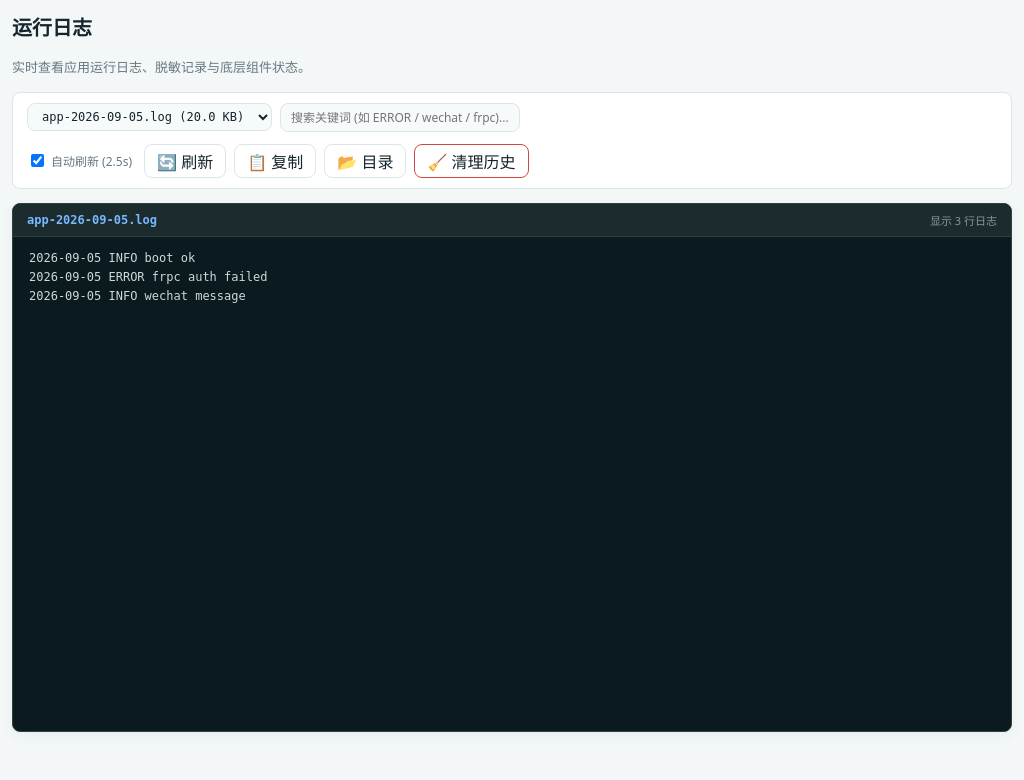
Test: LogsView › 搜索过滤大小写不敏感，计数联动
The width and height of the screenshot is (1024, 780).
Type "error" into the field with class "input-search" at (400, 117), box [280,103,520,132]
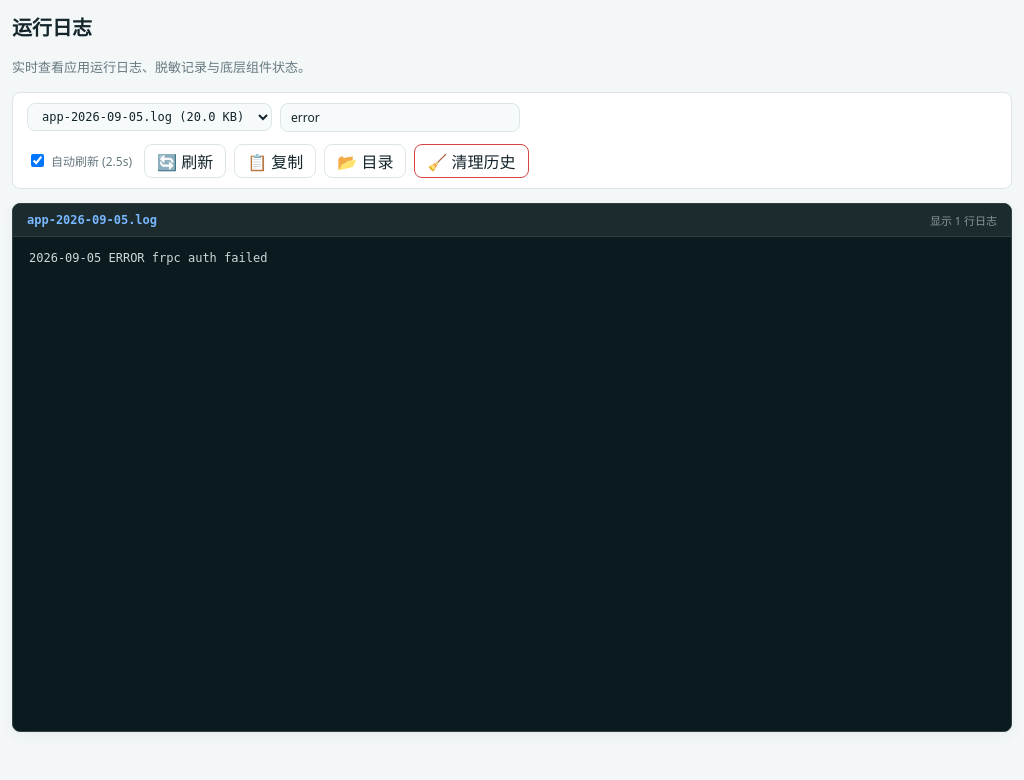
Expected: the element with class "log-content" shows "auth failed", [29,251,267,265]
Expected: the text with class "line-count" shows "1 行", [930,212,997,228]
Expected: the text with class "log-content" no longer shows "boot ok"
